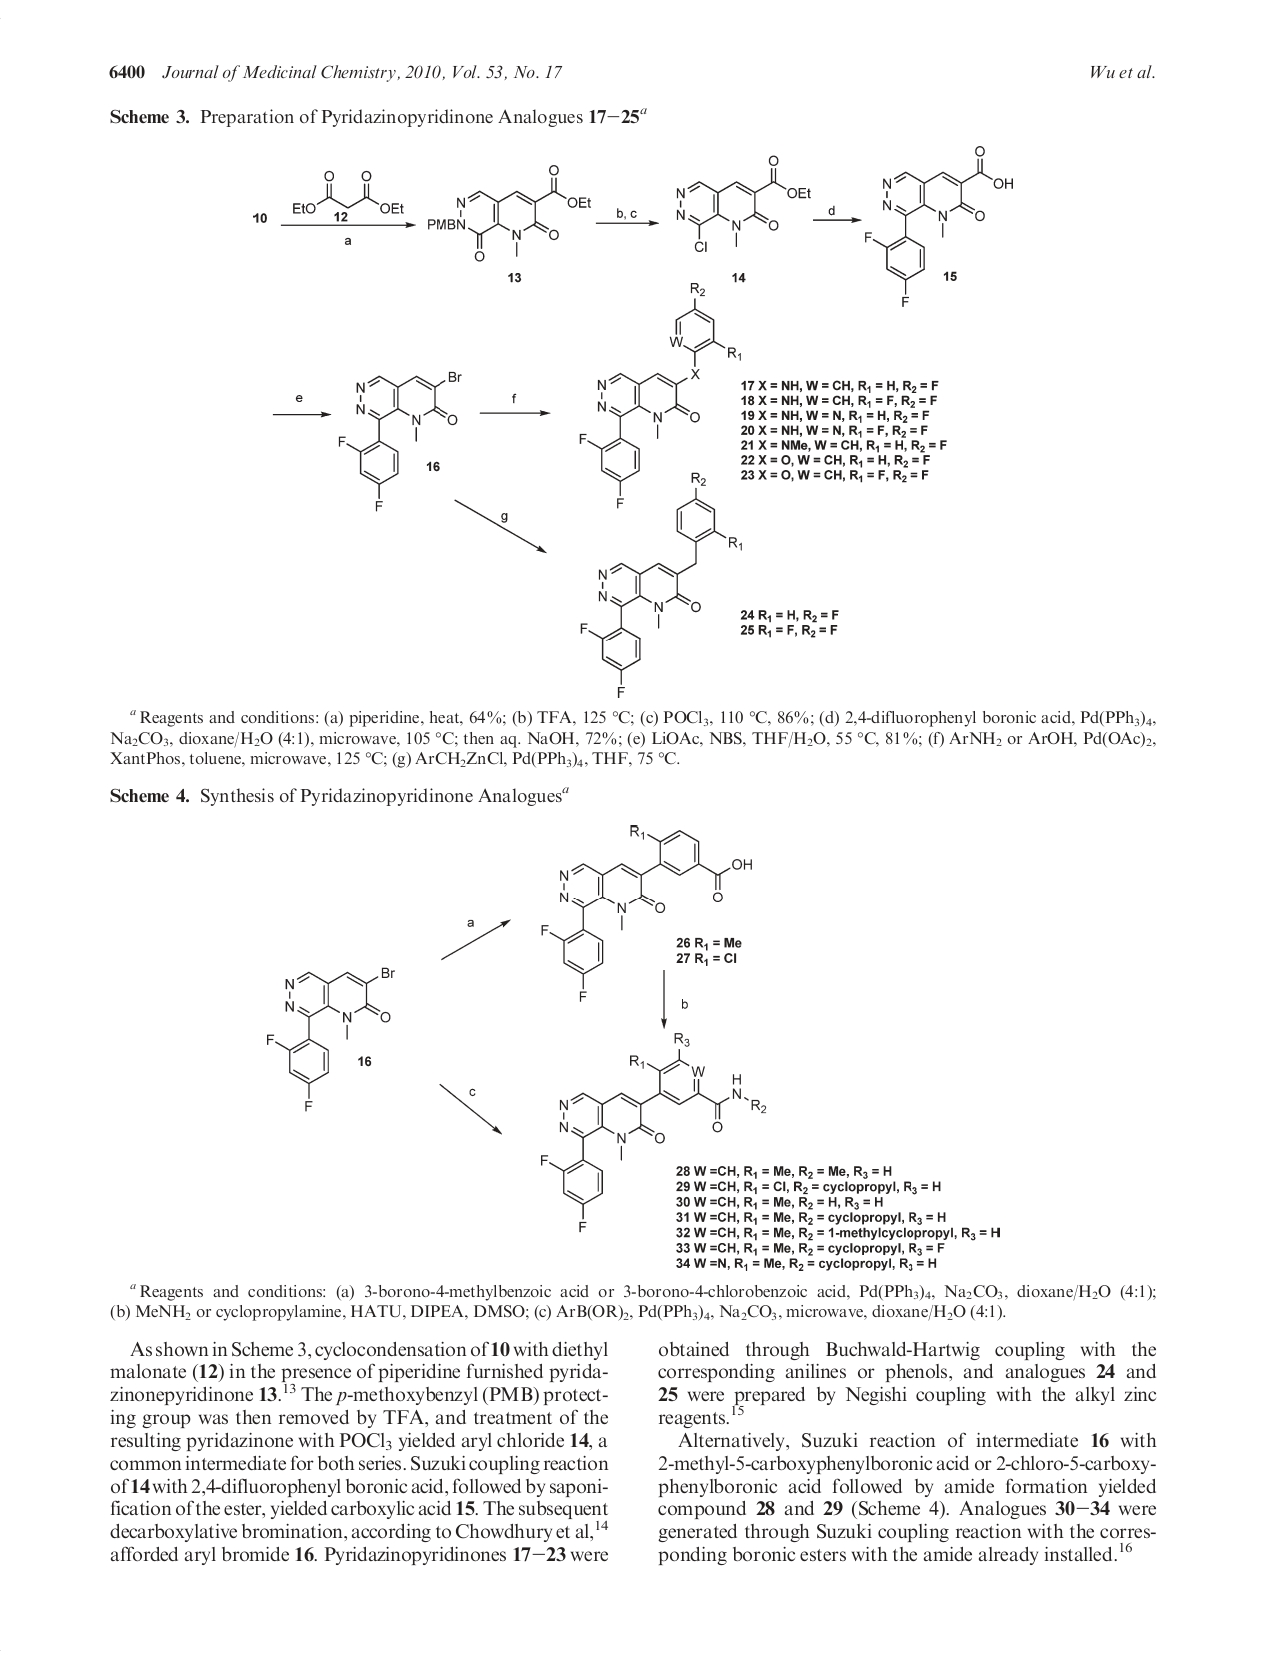exist_molecular: (539, 1031, 769, 1234), (539, 821, 755, 1005), (580, 469, 743, 701), (578, 281, 743, 509), (862, 145, 1016, 309), (265, 963, 398, 1114), (336, 366, 465, 515), (427, 164, 594, 263), (676, 154, 813, 255), (291, 169, 406, 215)
